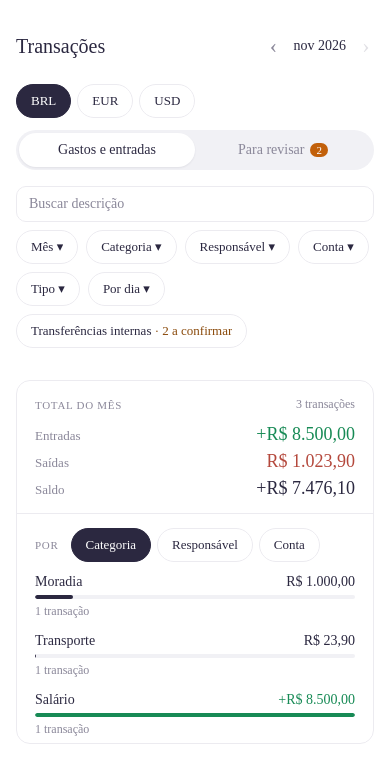
it: TransactionsScreen: imported lines to review › opens a line to correct it before approving
Click the tab with test id "segment-revisar".
click(283, 150)  # box [238,142,328,157]
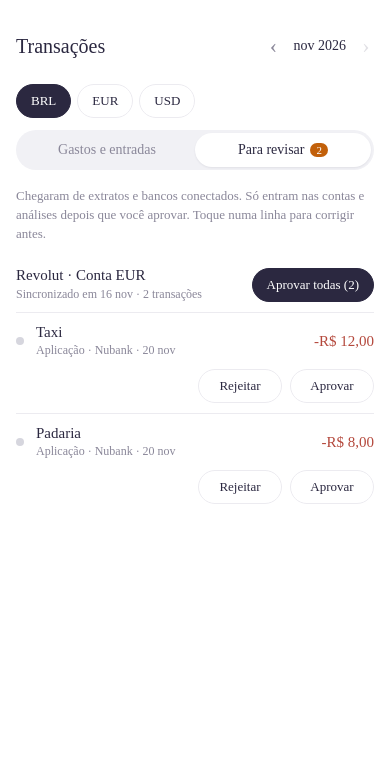
Click the text "Taxi".
click(49, 332)  # box [36,324,62,340]
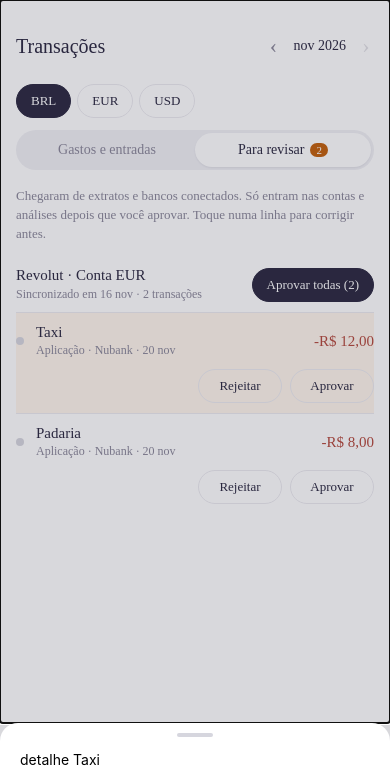
Check: the text "detalhe Taxi" is shown, box [20,751,100,768]
